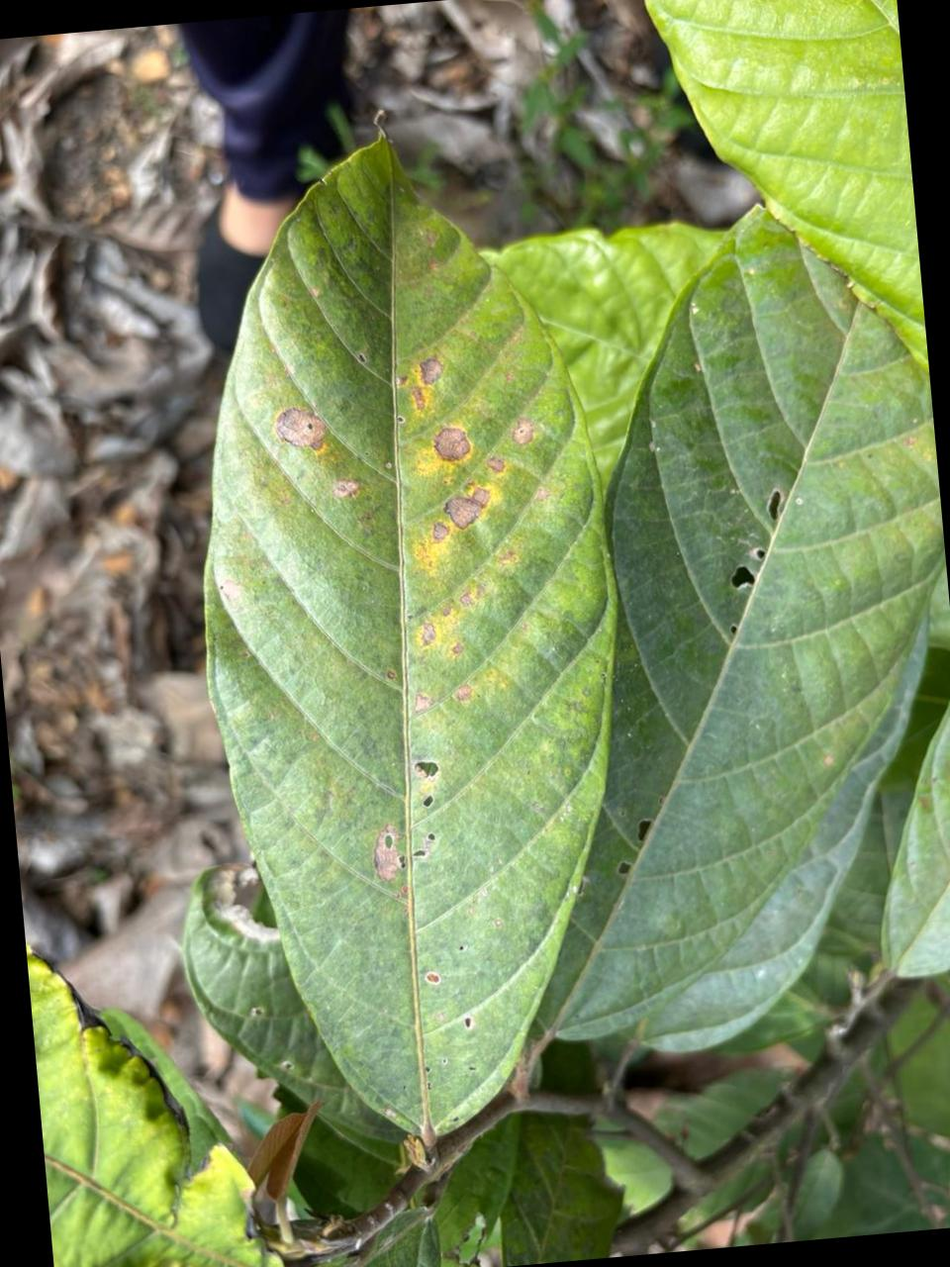Fosforo: (205, 139, 615, 1147)
